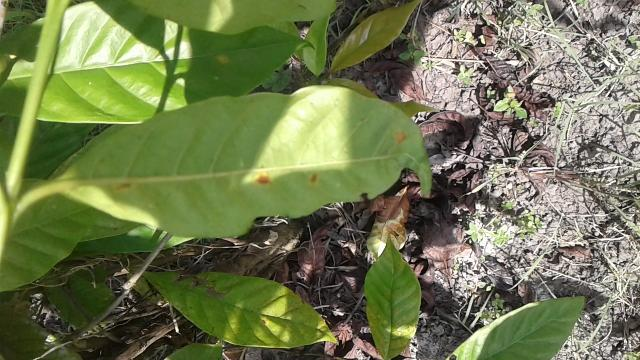rust_level_1: (38, 88, 434, 240)
